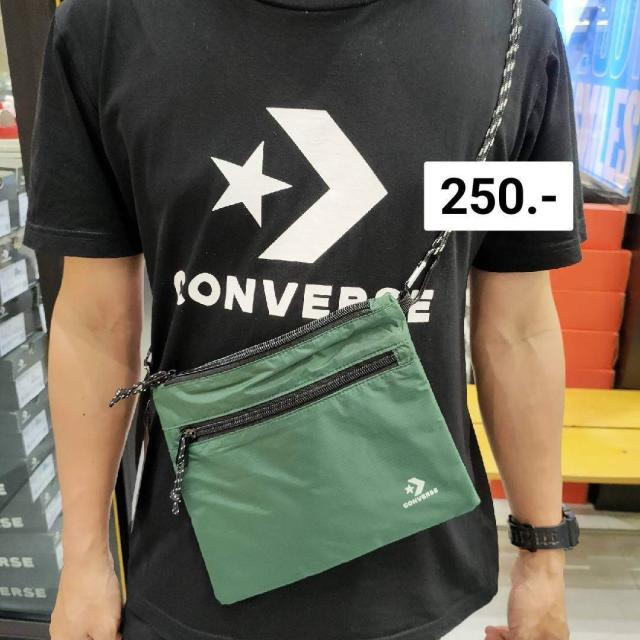Handbag: (114, 298, 479, 612)
